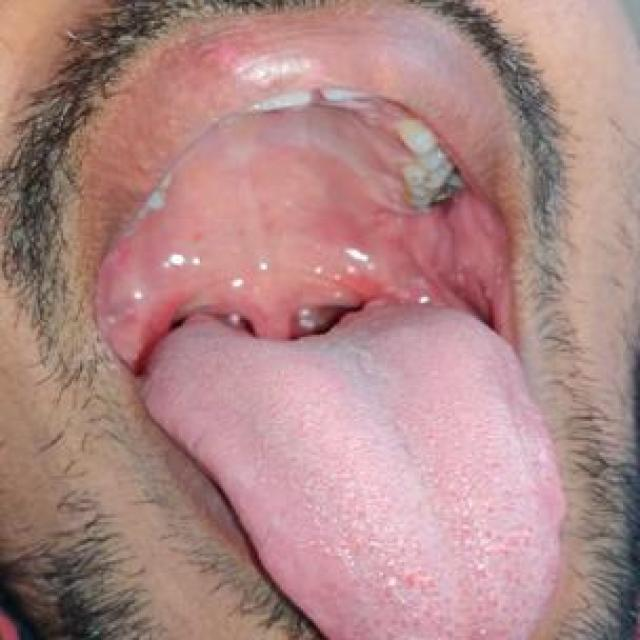processing_area: (84, 100, 563, 638)
